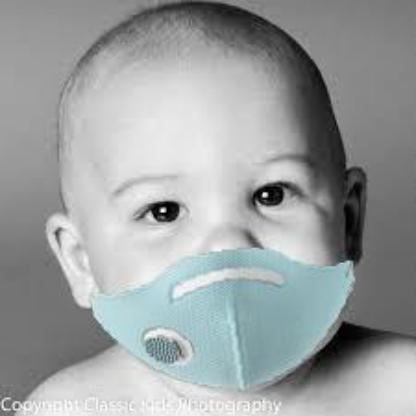FFP Mask: (37, 39, 369, 392)
